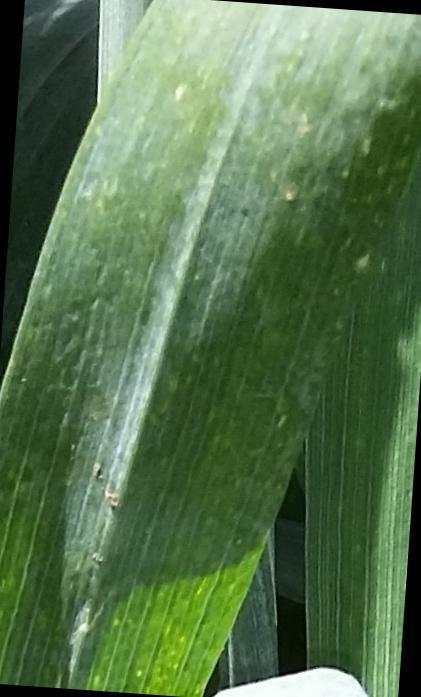Wheat: (133, 26, 421, 289), (30, 297, 201, 685), (315, 301, 396, 663), (213, 298, 302, 462)
